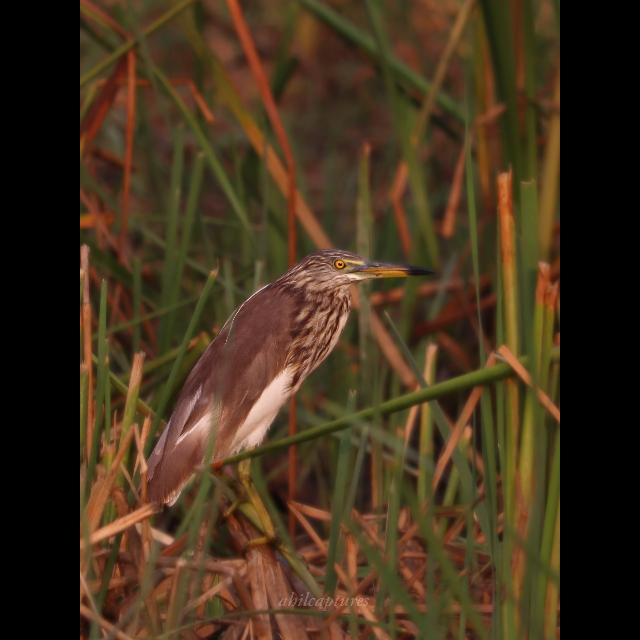heron: (134, 246, 420, 534)
